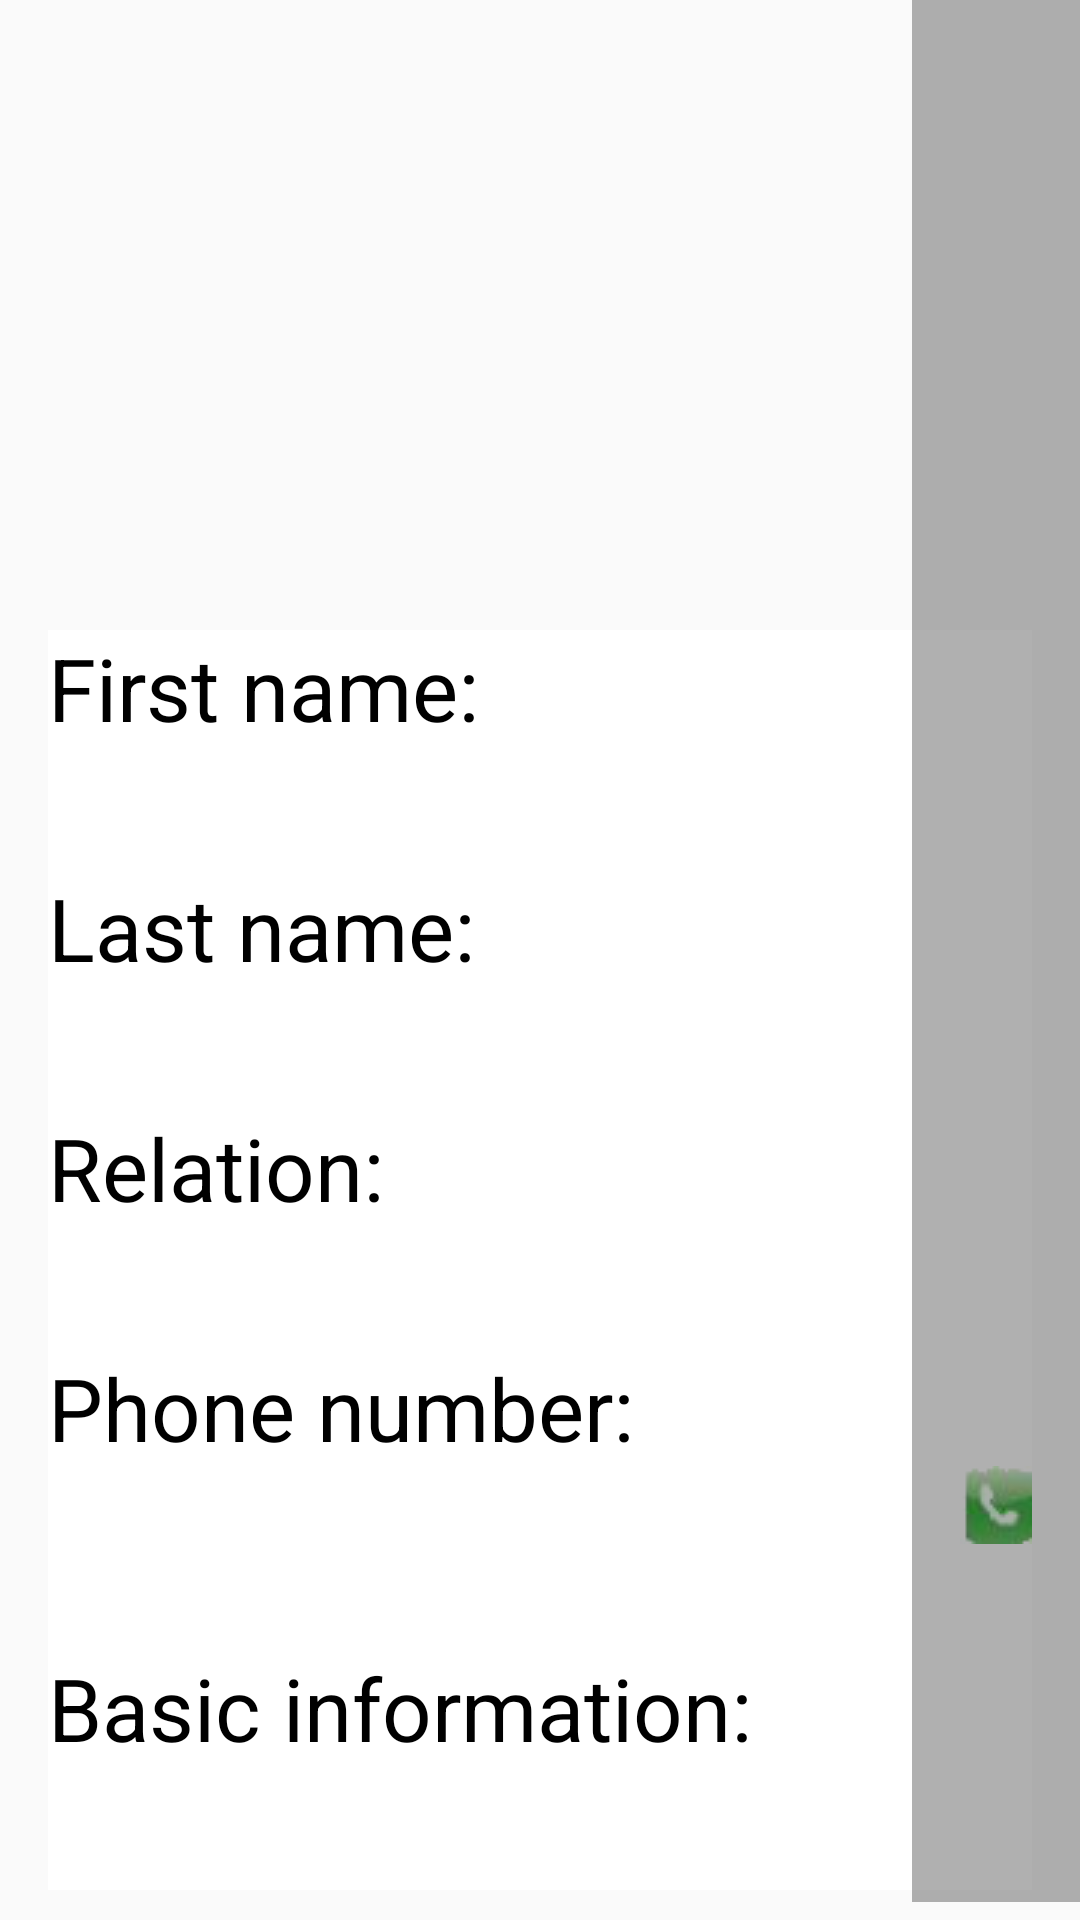

Icons on this 1080x1920 Android screen, each with the point to tap as (x,y):
belsymbool: (998,1505)
